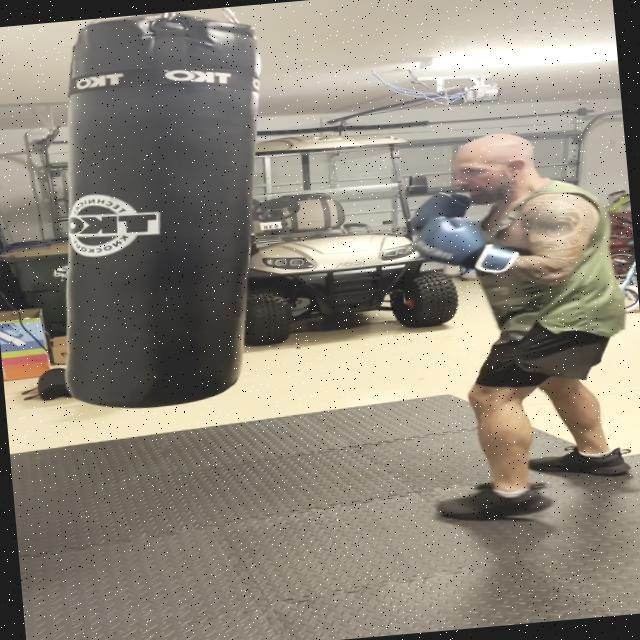bag: (31, 6, 312, 422)
no punch: (398, 124, 596, 300)
